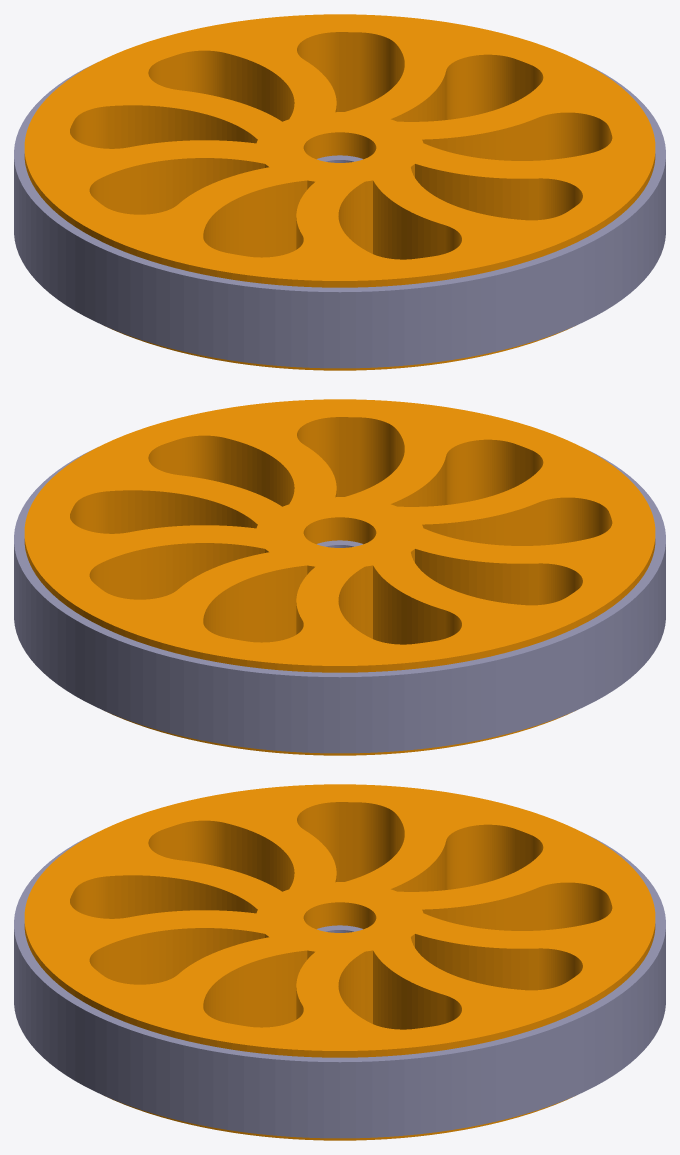
File: sand_wheel.dae
3 renders of one model, top to bottom at view 1: azimuth 30°, elevation 25°; view 2: azimuth 150°, elevation 25°; view 3: azimuth 270°, elevation 25°, orthographic.
Parts seen in each view (by area): view 1: node31.004; view 2: node31.004; view 3: node31.004.
Boxes of the visible parts, bbox=[...] form: node31.004: bbox=[14, 14, 665, 370]; node31.004: bbox=[14, 399, 665, 755]; node31.004: bbox=[14, 784, 665, 1140].
Bounding box in the file's own units: 0.155 × 0.155 × 0.0235.
